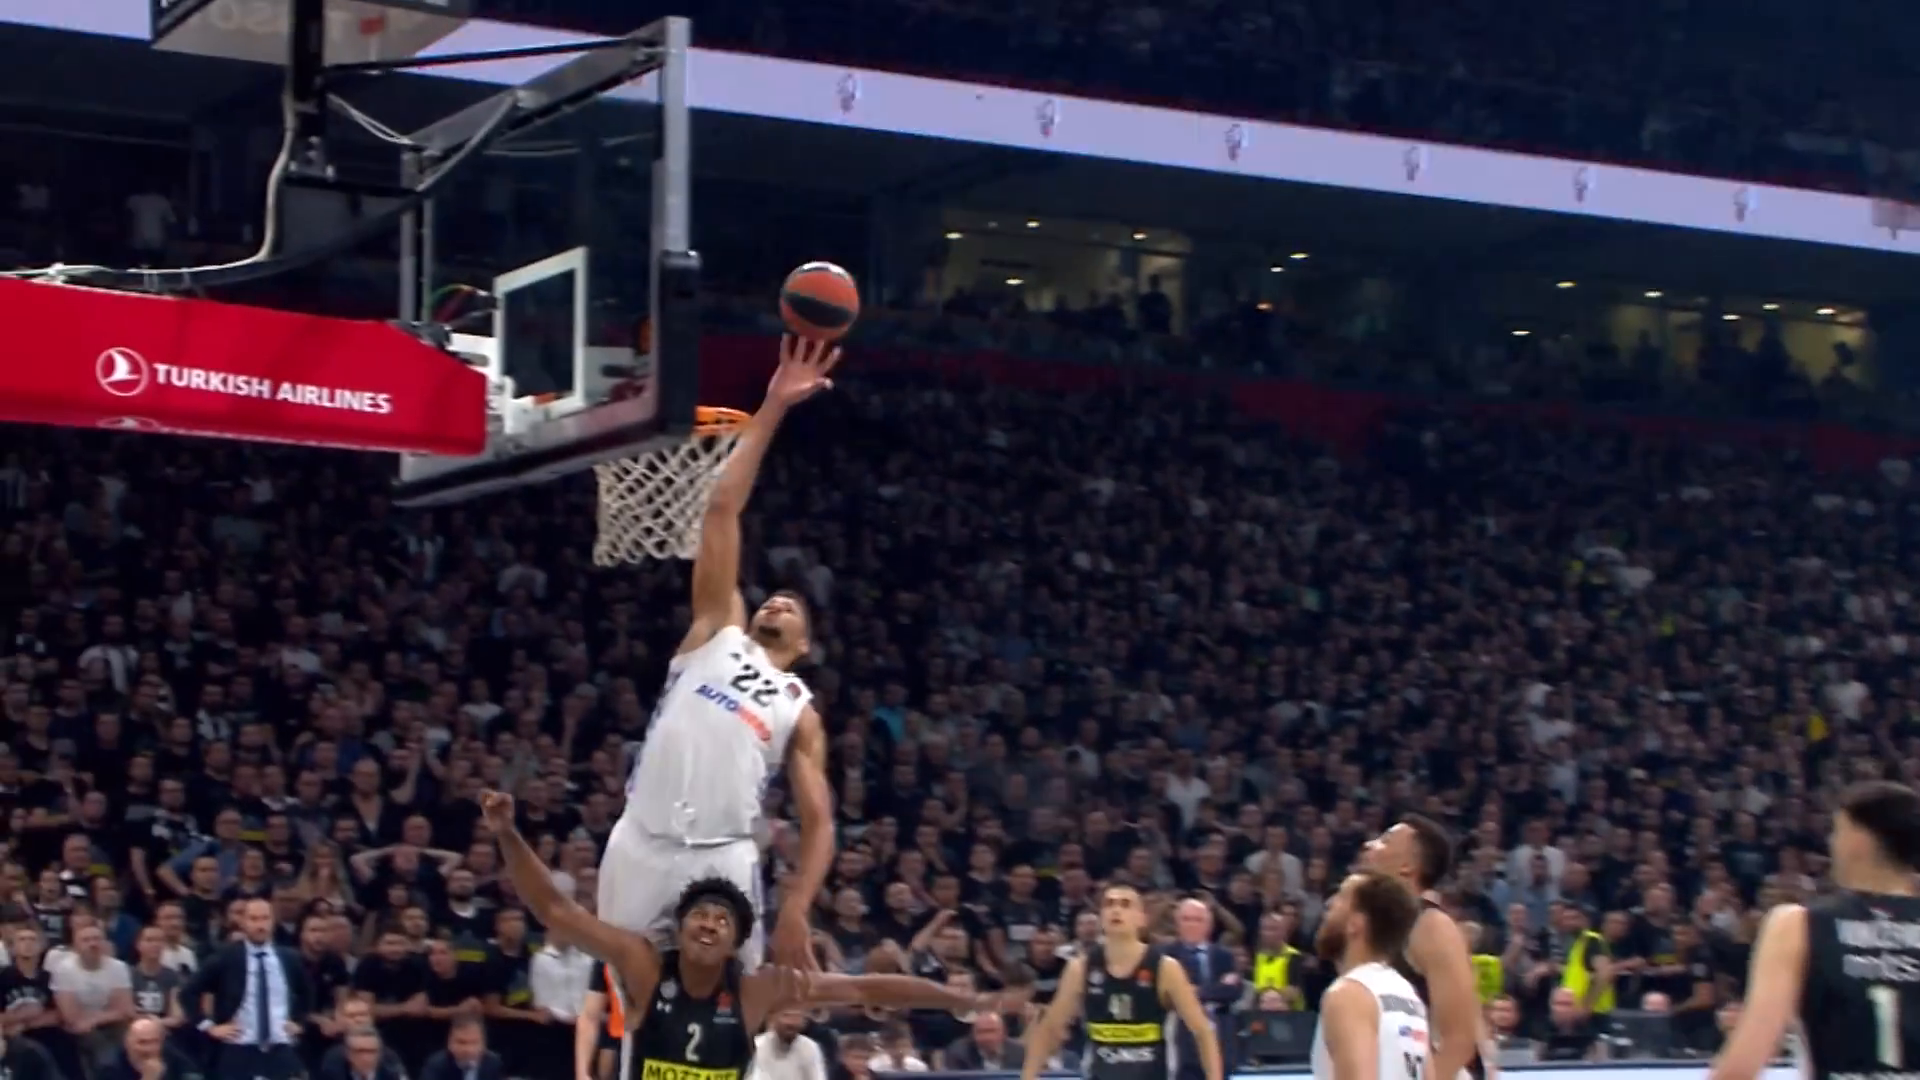ball: (779, 256, 860, 345)
net: (585, 388, 756, 568)
